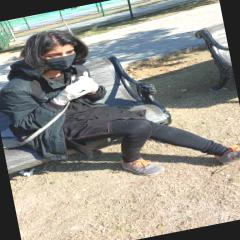gloved: (52, 78, 96, 104), (79, 71, 99, 95)
